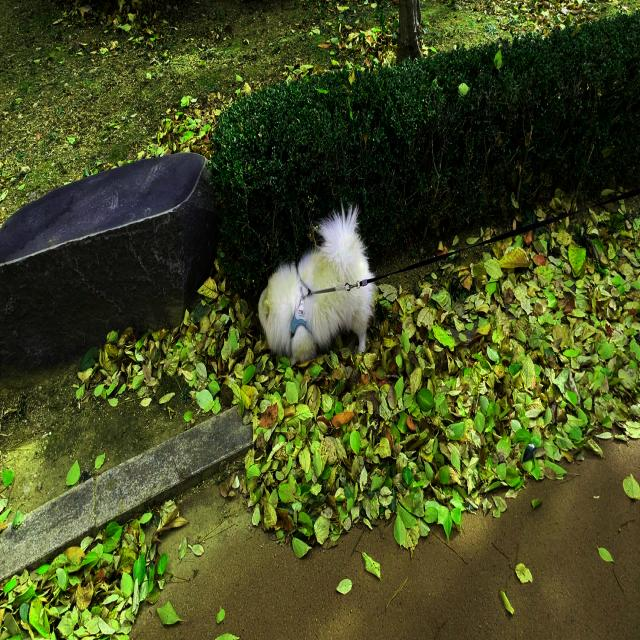Dog: (257, 204, 374, 363)
